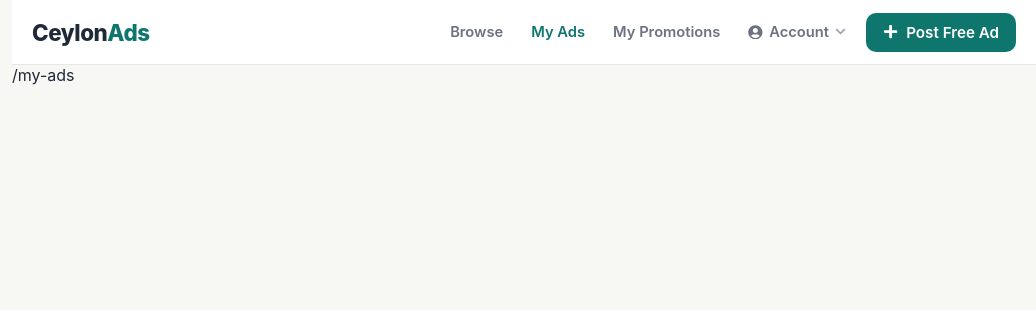
it: Header - authenticated desktop › navigates to My Promotions from the dropdown
What coordinates should you click on to do the following:
click the button "Account"
I would click on:
 (797, 32)
Its box is [744,15,850,49].
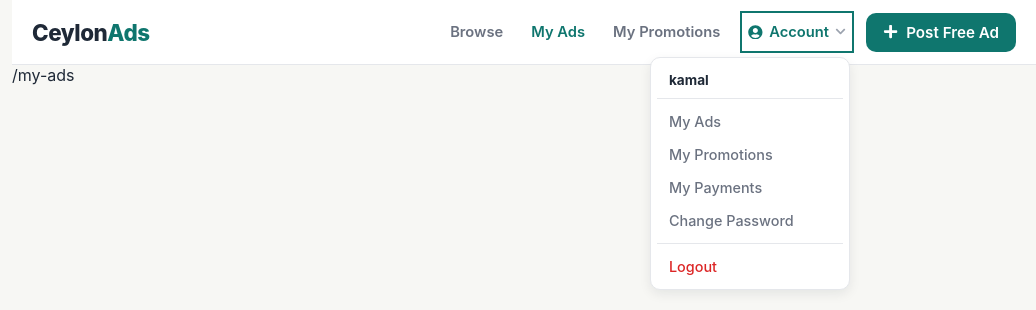
What coordinates should you click on to do the following:
click the menu item "My Promotions"
I would click on:
 (721, 154)
Its box is [669,146,773,163].
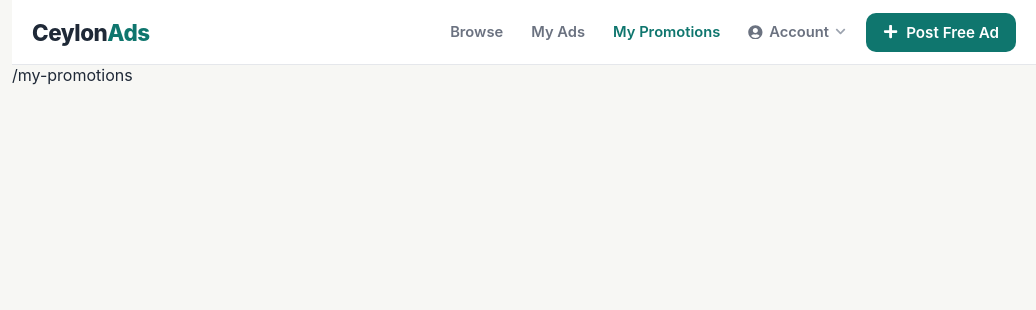
Now the text with test id "location" reads "/my-promotions", box [12,65,133,85]
